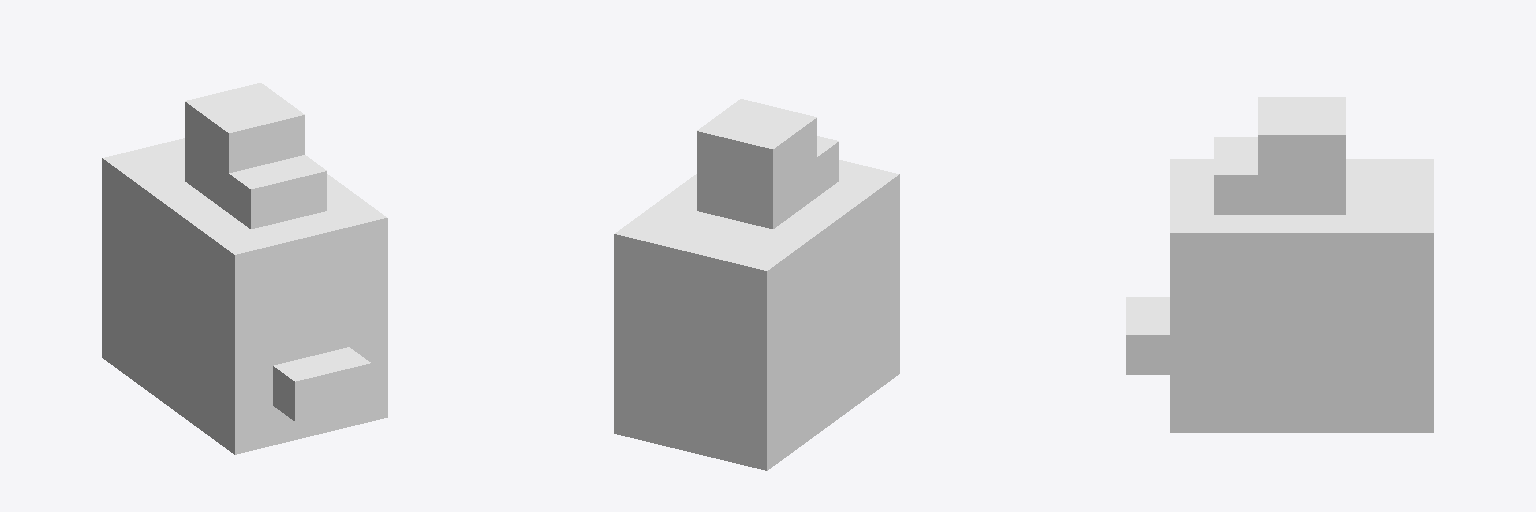
The model's file is gallina3.obj.
3 renders of one model, left to right at view 1: azimuth 30°, elevation 25°; view 2: azimuth 150°, elevation 25°; view 3: azimuth 270°, elevation 25°, orthographic.
Visible parts, largest first — view 1: gallina3; view 2: gallina3; view 3: gallina3.
Boxes of the visible parts, x1=… form: gallina3: x1=102, y1=83, x2=387, y2=454; gallina3: x1=614, y1=99, x2=899, y2=470; gallina3: x1=1126, y1=97, x2=1433, y2=432.
Bounding box in the file's own units: 4 × 7 × 7.